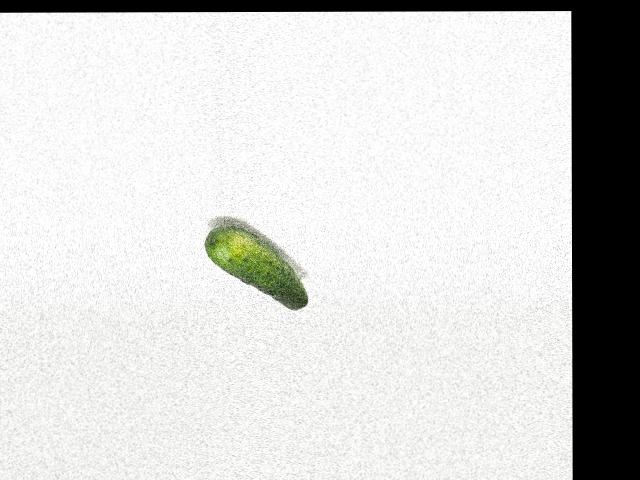cucumber: (205, 227, 308, 309)
